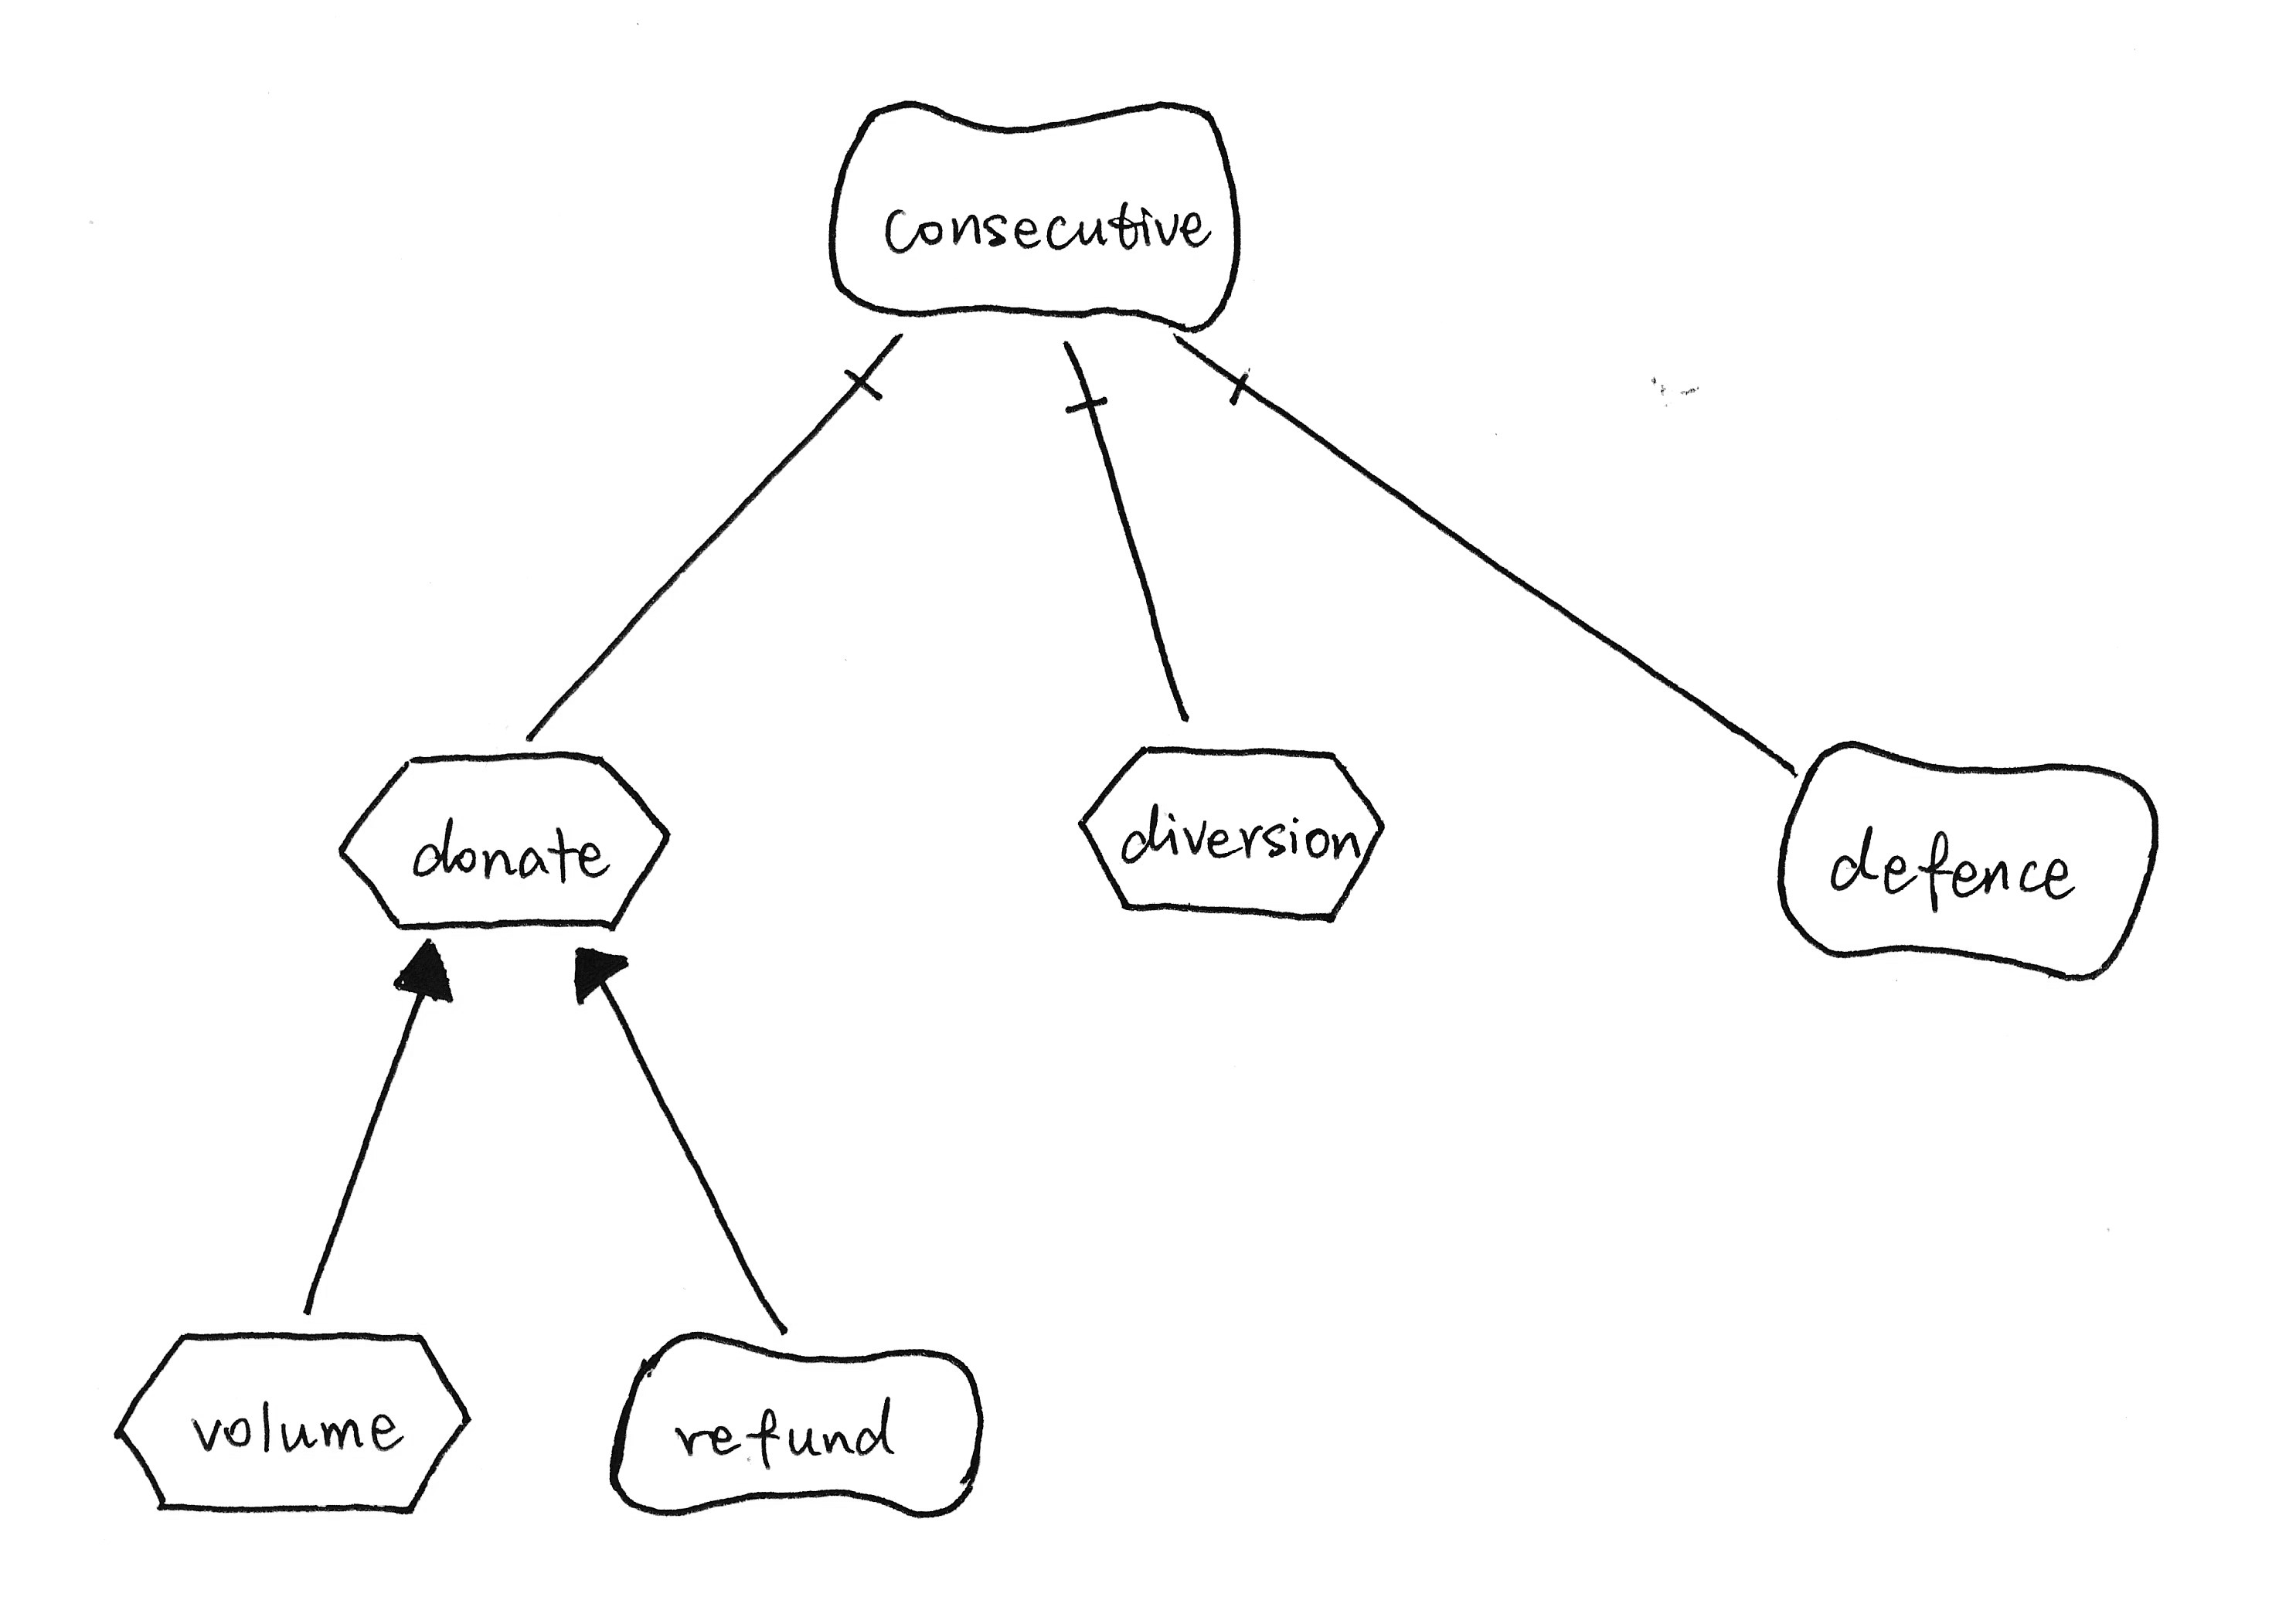and: (1155, 323, 1277, 415), (1047, 323, 1118, 429), (829, 319, 905, 408)
or: (544, 927, 654, 1014), (379, 918, 461, 1014)
quality: (799, 80, 1260, 352), (1755, 721, 2181, 996), (588, 1314, 1014, 1530)
task: (91, 1314, 487, 1532), (323, 731, 689, 947), (1064, 722, 1397, 937)
